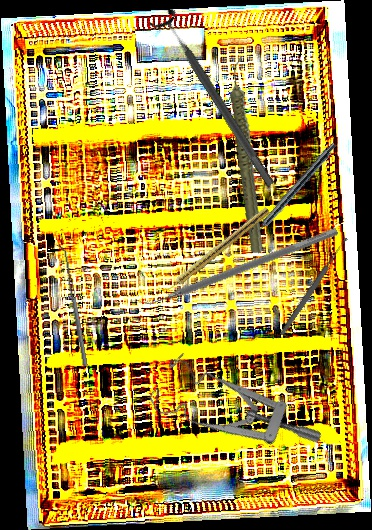Fixation Ring: (147, 6, 285, 194)
Handpiece: (208, 55, 288, 256), (161, 204, 271, 297), (245, 139, 339, 244)
Spatula Surgical: (137, 219, 339, 314), (57, 243, 88, 367)
Speculum: (139, 325, 324, 506)
Surgical Spoon: (278, 236, 350, 337)
